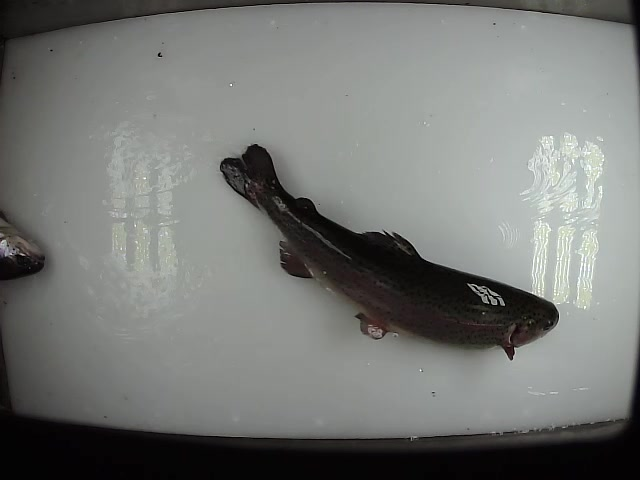fish: (217, 142, 561, 362), (1, 213, 48, 282)
